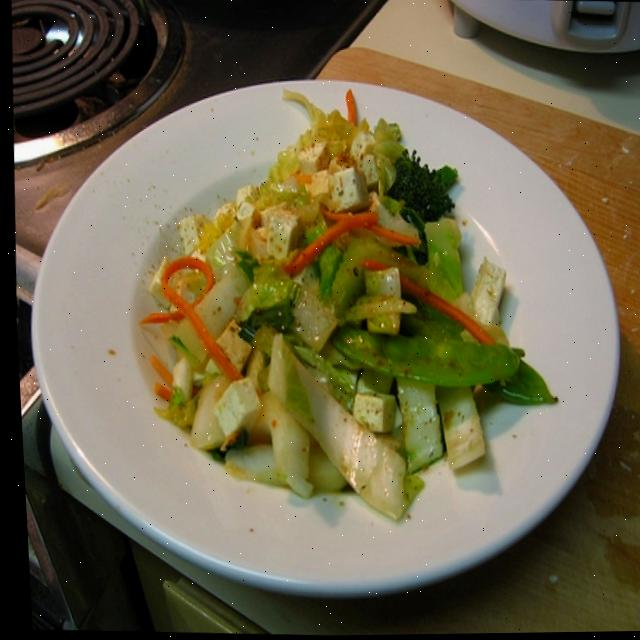蔬菜料理: (52, 50, 576, 569)
